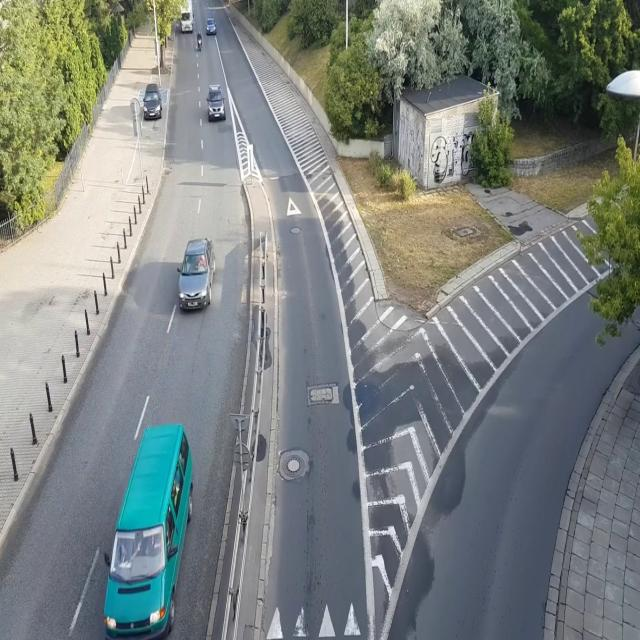car: (175, 237, 216, 310), (204, 84, 226, 124), (142, 83, 162, 121), (206, 16, 217, 34)
motorcycle: (196, 31, 202, 51)
truck: (178, 0, 194, 32)
van: (98, 423, 194, 640)
